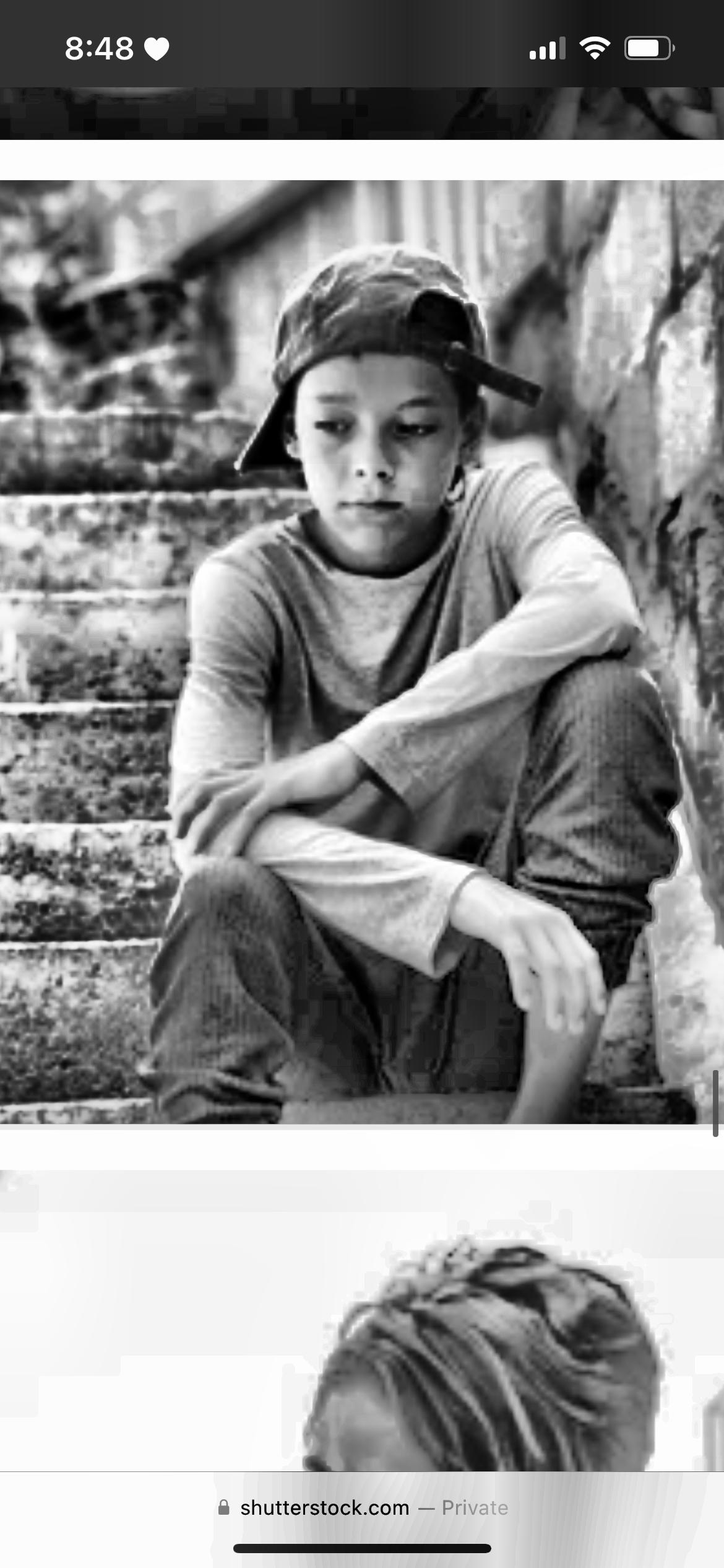sad: (254, 324, 522, 573)
